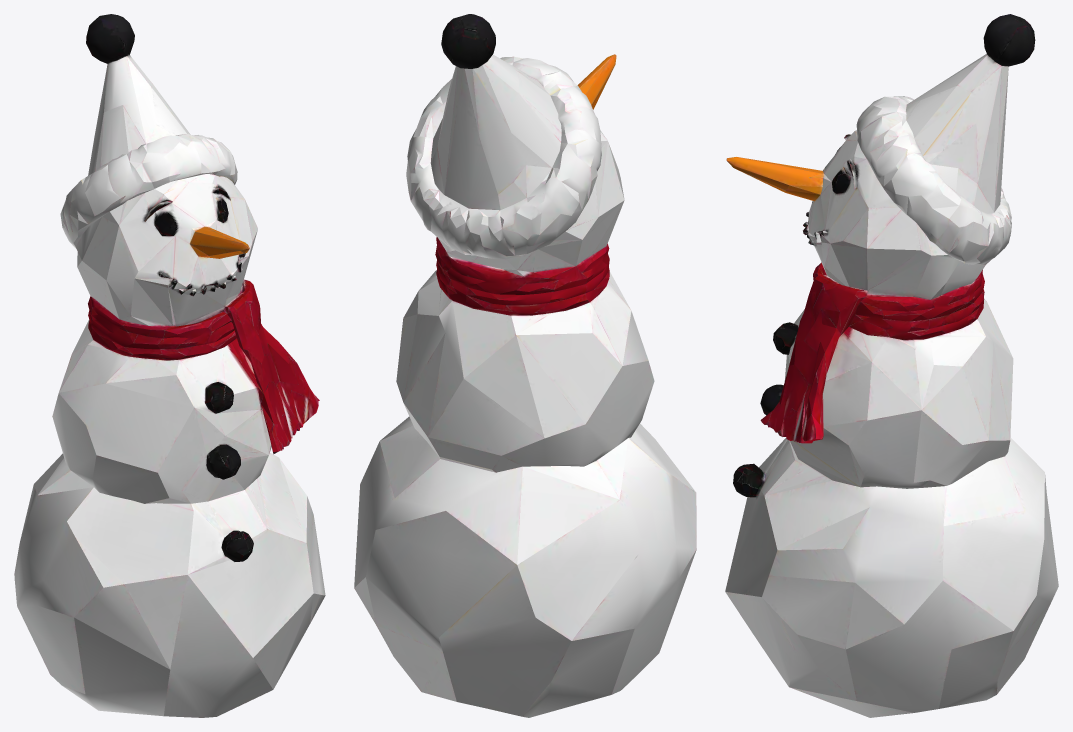
Rendered from snowman.glb.
3 renders of one model, left to right at view 1: azimuth 30°, elevation 25°; view 2: azimuth 150°, elevation 25°; view 3: azimuth 270°, elevation 25°, orthographic. The views are drawn at different scales.
Size of the model in its own units: 0.8288 by 1.9 by 0.8469.
Materials: 1 (1 with a texture image).
